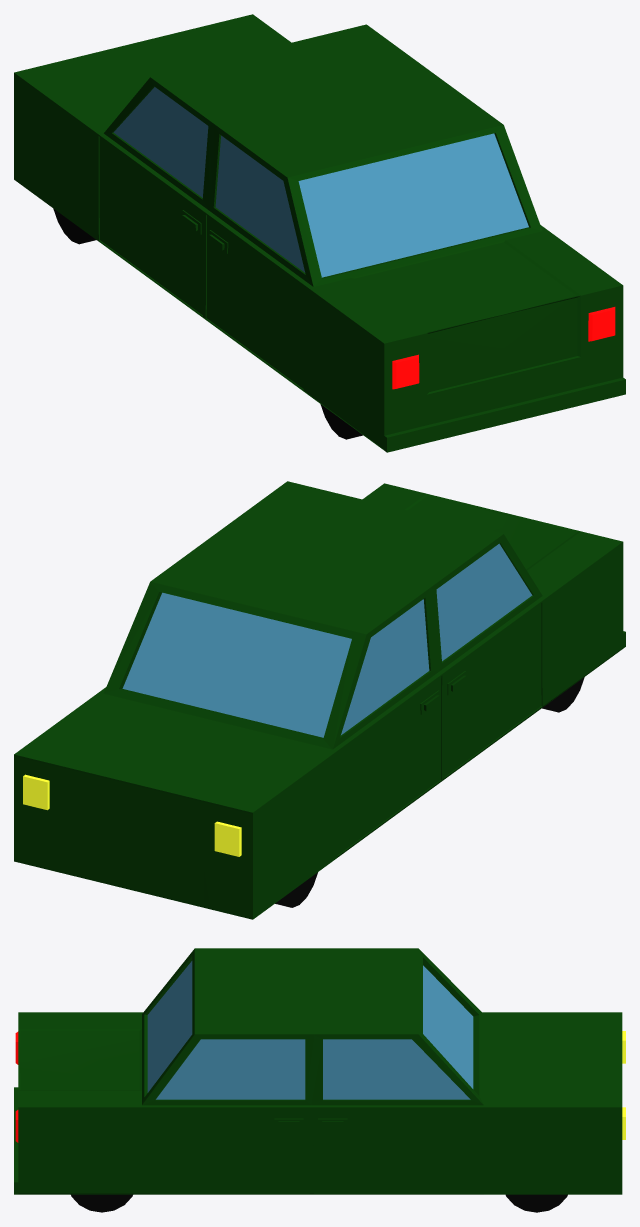
File: NEW_CAR_2.FBX
3 renders of one model, top to bottom at view 1: azimuth 30°, elevation 25°; view 2: azimuth 150°, elevation 25°; view 3: azimuth 270°, elevation 25°, orthographic. The views are drawn at different scales.
Visible parts, largest first — view 1: Box001; view 2: Box001; view 3: Box001, Tube005, Tube002.
Boxes of the visible parts, box(x1,y1,x2,y2) form: Box001: box(14, 14, 625, 452); Box001: box(14, 481, 625, 919); Box001: box(14, 948, 625, 1194); Tube005: box(505, 1194, 567, 1212); Tube002: box(71, 1194, 132, 1212).
Size of the model in its own units: 76.13 by 64.33 by 203.
